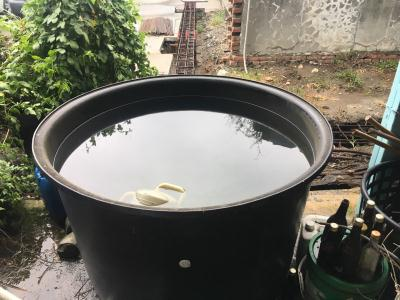bottle: (335, 216, 365, 283), (356, 227, 381, 285), (318, 221, 341, 276)
bucket: (28, 71, 336, 299)
